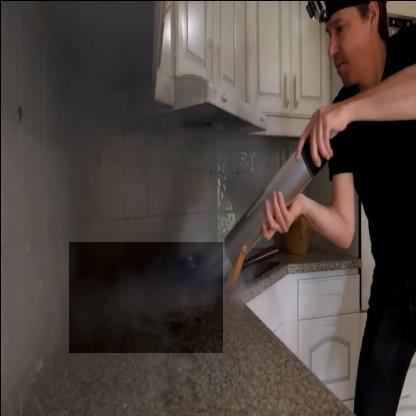Smoke: (89, 206, 244, 318)
